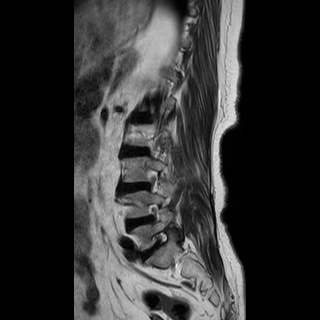LFS0: (147, 226, 174, 254), (142, 196, 167, 226)
